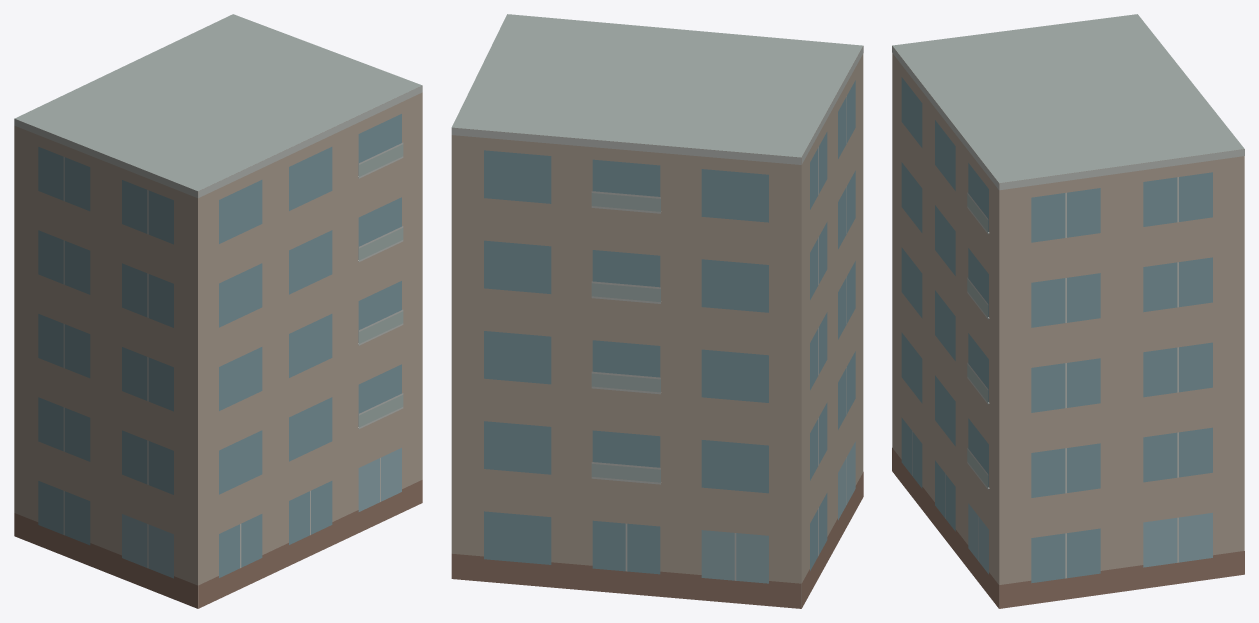
Rendered from survey-upis-32560663.glb.
3 renders of one model, left to right at view 1: azimuth 30°, elevation 25°; view 2: azimuth 150°, elevation 25°; view 3: azimuth 270°, elevation 25°, orthographic. The views are drawn at different scales.
Visible parts, largest first — view 1: survey-upis-32560663.tmp; view 2: survey-upis-32560663.tmp; view 3: survey-upis-32560663.tmp.
Boxes of the visible parts, <box> form: survey-upis-32560663.tmp: <box>14,14,422,608</box>; survey-upis-32560663.tmp: <box>451,14,863,608</box>; survey-upis-32560663.tmp: <box>892,14,1244,608</box>.
Bounding box in the file's own units: 12.46 × 14.6 × 10.97.
